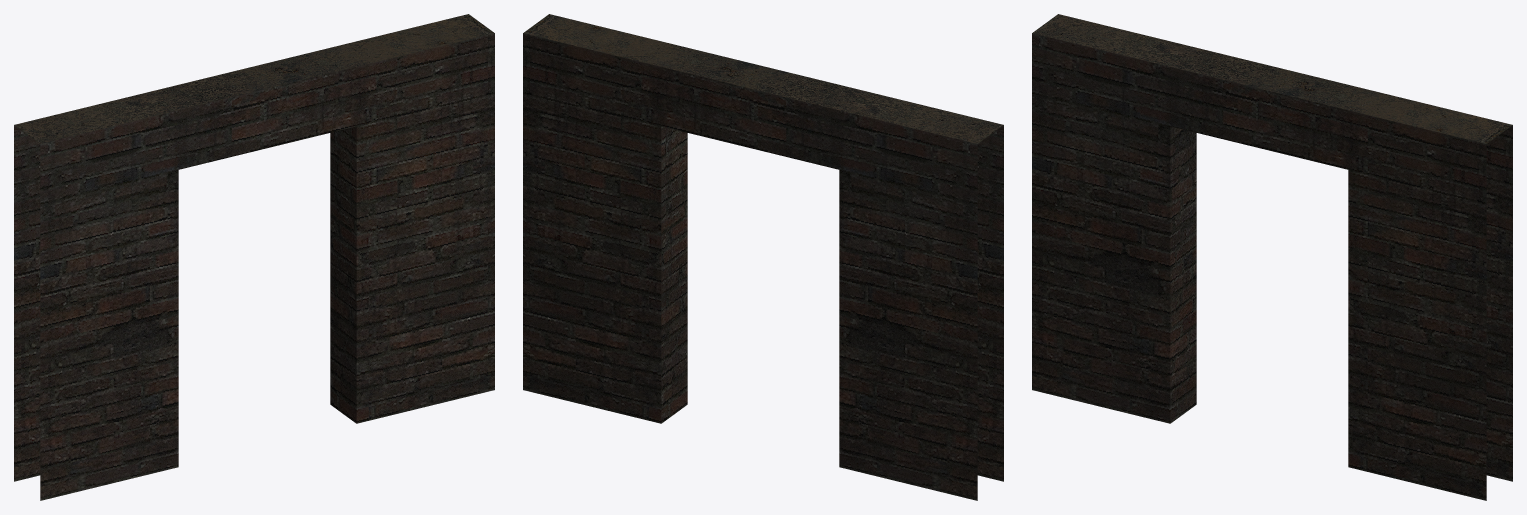
File: doorway_hs_1_wide.glb
3 views of the same model, side by side, from view 1: azimuth 30°, elevation 25°; view 2: azimuth 150°, elevation 25°; view 3: azimuth 330°, elevation 25° (orthographic).
Parts seen in each view (by area): view 1: doorway_hs_1_wide; view 2: doorway_hs_1_wide; view 3: doorway_hs_1_wide.
Part boxes in pixels (x1,y1,x2,y2): doorway_hs_1_wide: (14,14,494,500); doorway_hs_1_wide: (523,14,1003,500); doorway_hs_1_wide: (1032,14,1512,500).
Size of the model in its own units: 4 by 3 by 0.4.
2 materials, 2 textured.
